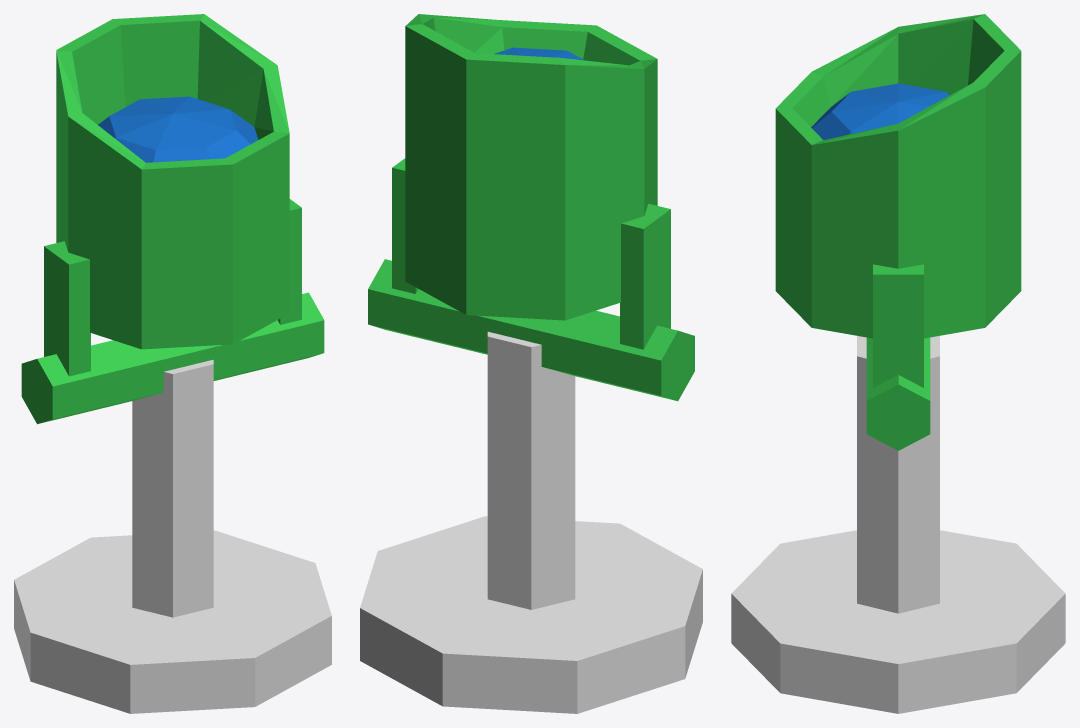
The model's file is SM_spotlight.fbx.
The picture shows the model from 3 angles, left to right: view 1: azimuth 30°, elevation 25°; view 2: azimuth 150°, elevation 25°; view 3: azimuth 270°, elevation 25°; orthographic projection. The views are drawn at different scales.
Visible parts, largest first — view 1: Cube_6, spotlight; view 2: Cube_6, spotlight; view 3: Cube_6, spotlight.
Part boxes in pixels (x1,y1,x2,y2): Cube_6: [21, 14, 324, 424]; spotlight: [14, 359, 331, 713]; Cube_6: [368, 14, 694, 401]; spotlight: [360, 331, 702, 713]; Cube_6: [775, 14, 1021, 450]; spotlight: [731, 336, 1065, 713].
Size of the model in its own units: 30 by 58.7 by 30.
